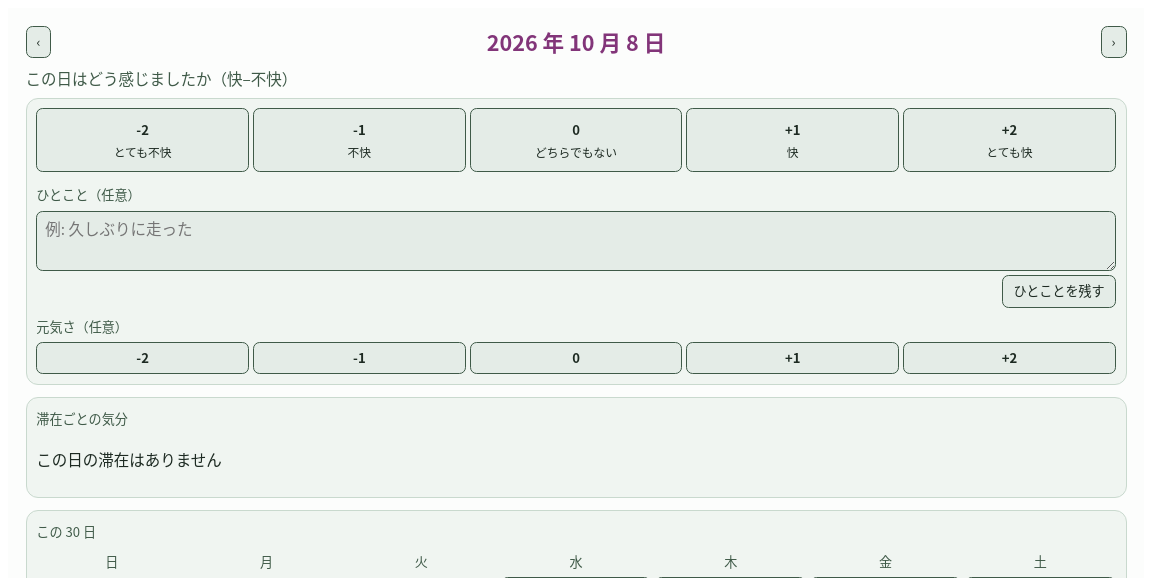
Test: 押した瞬間に保存する › 快を 1 回押すと、確定の操作なしで今日の「日」に快–不快 +1 が 1 件送られ、保存と記入の日時が出る
This screenshot has width=1152, height=578.
Click the button with test id "valence-1" at (793, 140), box [686, 108, 899, 172]
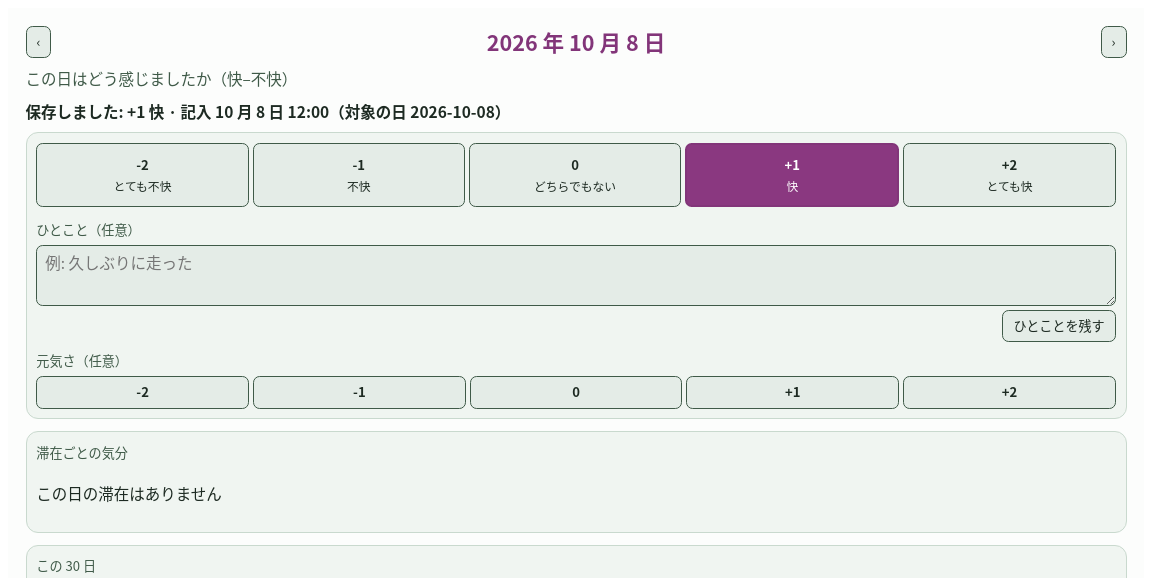
Check: the text with test id "feel-notice-ok" shows "保存しました", box [26, 100, 510, 122]
Check: the text with test id "feel-notice-ok" shows "+1 快", box [26, 100, 510, 122]
Check: the text with test id "feel-notice-ok" shows "10 月 8 日 12:00", box [26, 100, 510, 122]
